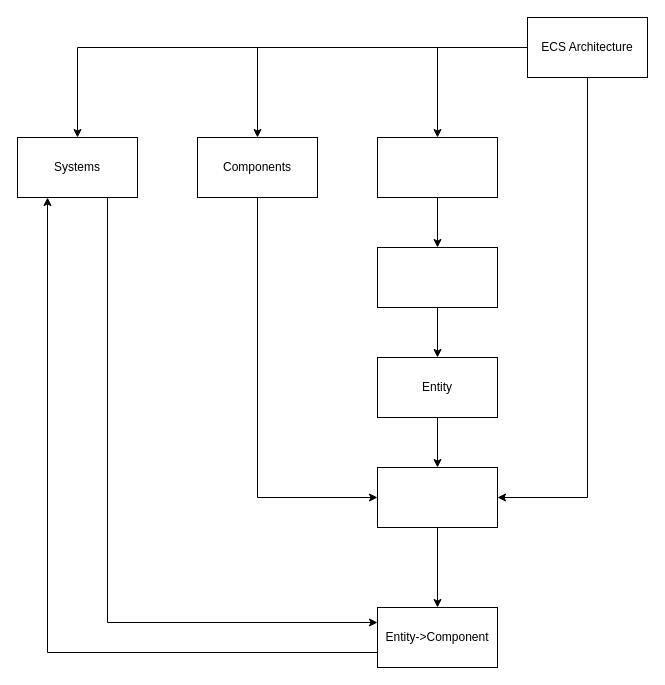
Image size: 665x685. Some labels were removed from this diagram. The shapes that lost their labels are listed below. From the top down, each one's centre as x and y in pixels, then its label:
At point 437,167: "Entities".
At point 437,277: "Createentity()".
At point 437,497: "registry".
